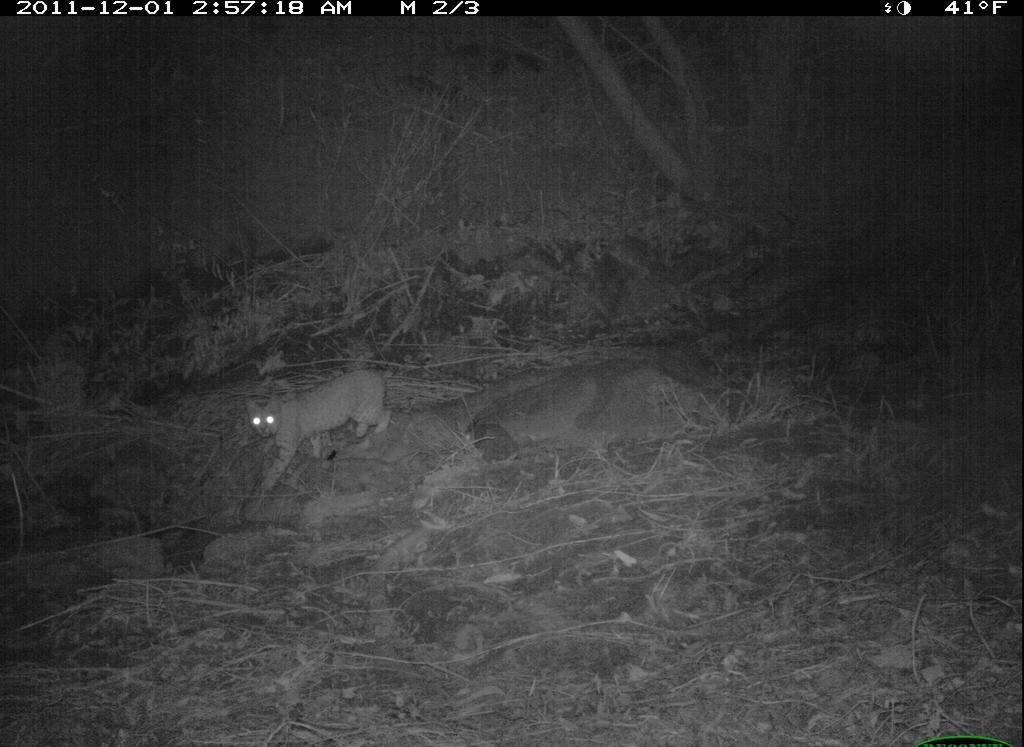bobcat: (238, 357, 412, 508)
